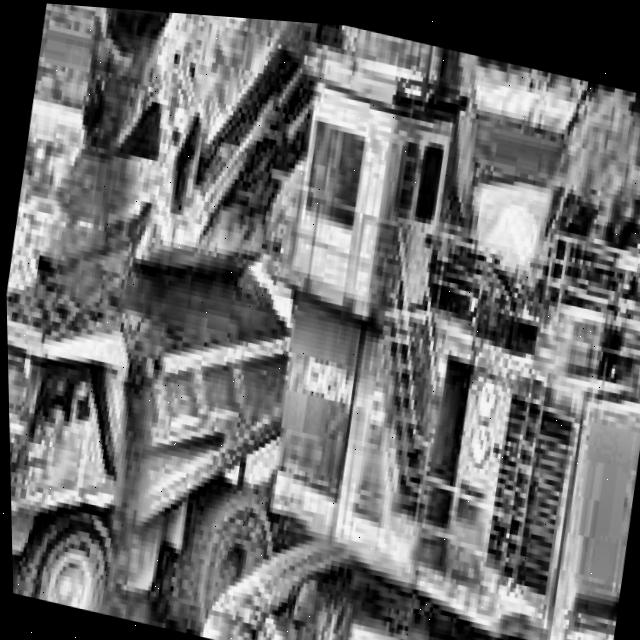dump_truck: (4, 224, 320, 640)
excavator: (9, 1, 640, 640)
